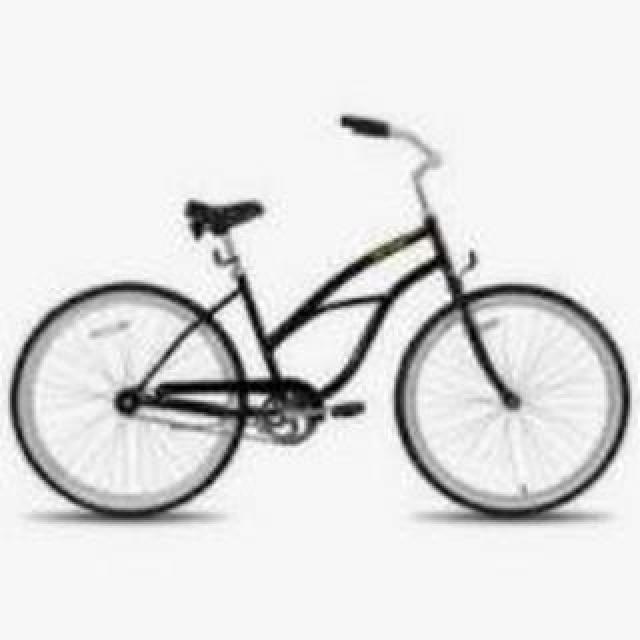Person: (7, 107, 637, 523)
